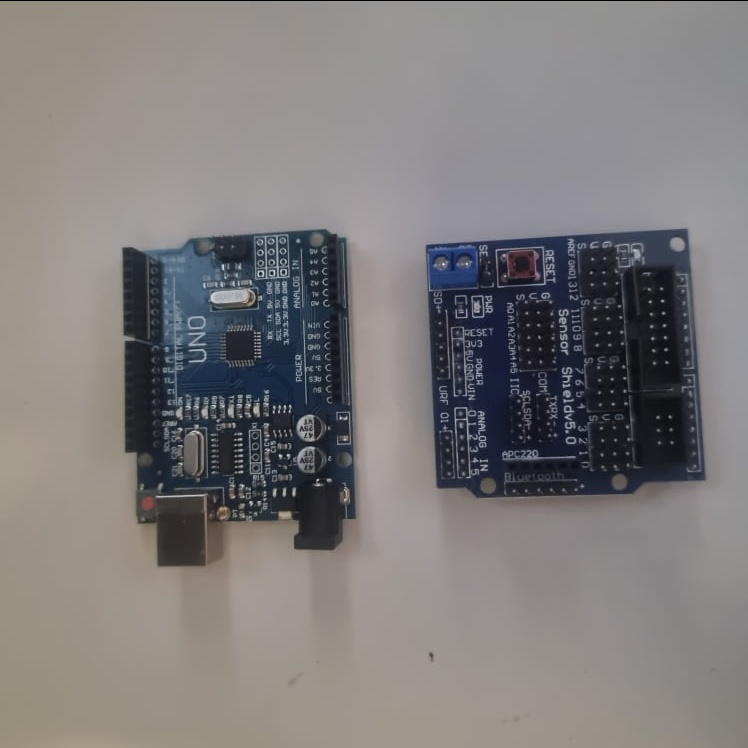5V EXPANSION: (422, 224, 709, 500)
UNO R3: (120, 221, 349, 566)
